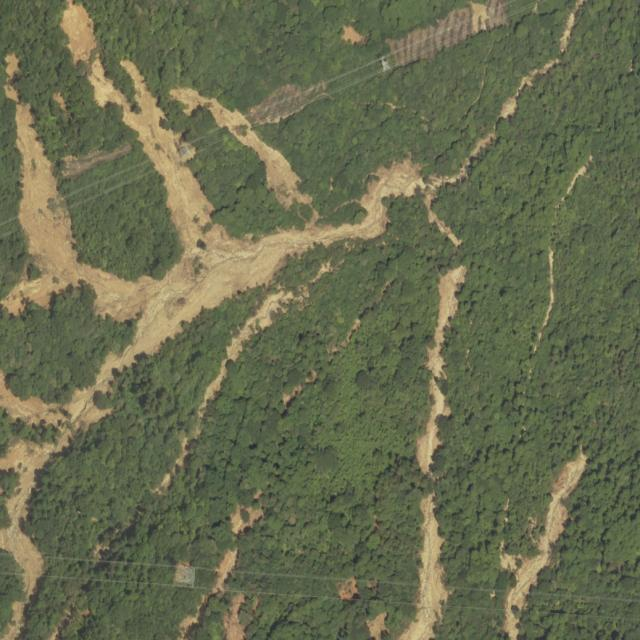landslide: (0, 1, 441, 600), (170, 87, 312, 208), (505, 454, 588, 638), (418, 266, 467, 475), (402, 494, 449, 640)
